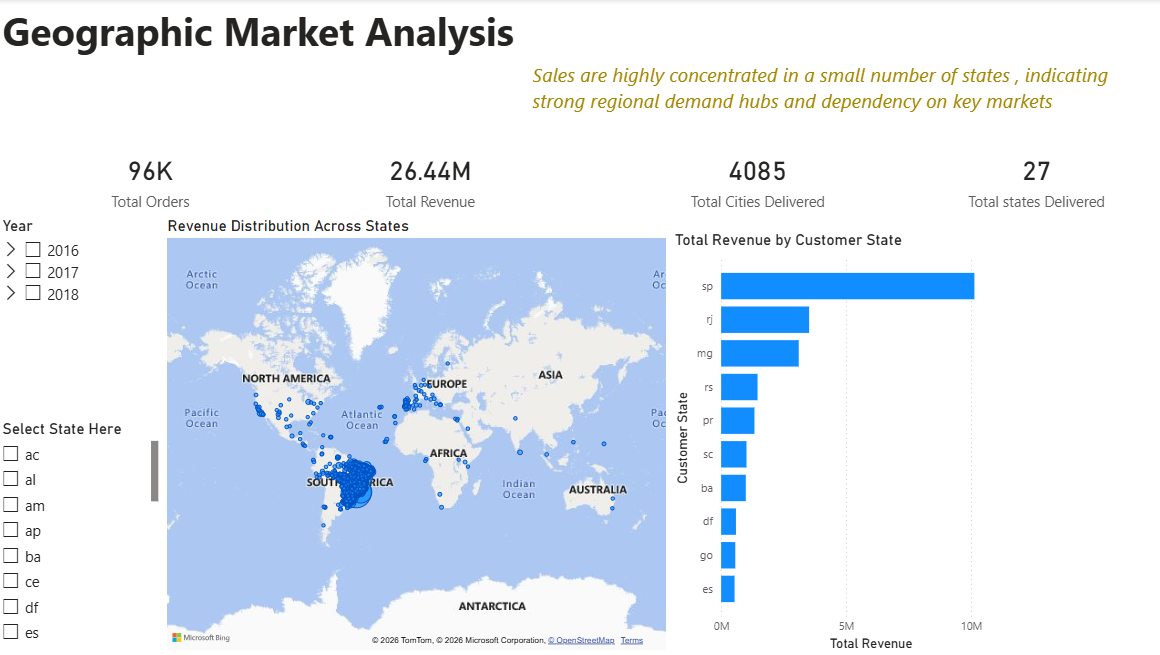

What the dashboard file says about the page in this screenshot:
{"tool":"powerbi","page":{"name":"GEOGRAPHIC MARKET ANALYSIS","canvas":[1280,720],"ordinal":3},"visuals":[{"type":"card","fields":{"Values":["Count(public bi_geographic_sales_overview (2).customer_state)"]},"box":[1000.3,156.4,279.9,82.3],"z":0},{"type":"card","fields":{"Values":["Count(public bi_geographic_sales_overview (2).customer_city)"]},"box":[679.2,156.4,310.1,82.3],"z":1000},{"type":"card","fields":{"Values":["Sum(public bi_geographic_sales_overview (2).total_orders)"]},"box":[0,156.4,334.8,82.3],"z":2000},{"type":"card","fields":{"Values":["Sum(public bi_geographic_sales_overview (2).total_revenue)"]},"box":[334.8,156.4,279.9,82.3],"z":3000},{"type":"map","title":"Revenue Distribution Across States","fields":{"Category":["public bi_geographic_sales_overview (2).customer_city"],"Size":["Sum(public bi_geographic_sales_overview (2).total_revenue)"]},"box":[181.1,238.8,557.1,481.6],"z":4000},{"type":"barChart","fields":{"Category":["public bi_geographic_sales_overview (2).customer_state"],"Y":["Sum(public bi_geographic_sales_overview (2).total_revenue)"]},"box":[738.3,253.9,402.1,466.6],"z":4001},{"type":"listSlicer","fields":{"Values":["public bi_geographic_sales_overview (2).order_month.Variation.Date Hierarchy.Year","public bi_geographic_sales_overview (2).order_month.Variation.Date Hierarchy.Quarter","public bi_geographic_sales_overview (2).order_month.Variation.Date Hierarchy.Month","public bi_geographic_sales_overview (2).order_month.Variation.Date Hierarchy.Day"]},"box":[0,238.8,167.4,222.3],"z":4002},{"type":"listSlicer","fields":{"Values":["public bi_geographic_sales_overview (2).customer_state"]},"box":[0,461.1,181.1,259.3],"z":4003},{"type":"textbox","box":[0,0,581.8,78.2],"z":4004},{"type":"textbox","box":[581.8,63.1,682,86.4],"z":4005}]}

Visuals, with their boxes in screenshot pixels (x1, y1, x2, y2), scaled from the page's 1280x720 canvas onto the 1160x655 screenshot:
card - Count(public bi_geographic_sales_overview (2).customer_state): select_region(907, 142, 1159, 217)
card - Count(public bi_geographic_sales_overview (2).customer_city): select_region(616, 142, 897, 217)
card - Sum(public bi_geographic_sales_overview (2).total_orders): select_region(0, 142, 303, 217)
card - Sum(public bi_geographic_sales_overview (2).total_revenue): select_region(303, 142, 557, 217)
"Revenue Distribution Across States" map: select_region(164, 217, 669, 654)
barChart - public bi_geographic_sales_overview (2).customer_state x Sum(public bi_geographic_sales_overview (2).total_revenue): select_region(669, 231, 1033, 654)
listSlicer - public bi_geographic_sales_overview (2).order_month.Variation.Date Hierarchy.Year x public bi_geographic_sales_overview (2).order_month.Variation.Date Hierarchy.Quarter: select_region(0, 217, 152, 419)
listSlicer - public bi_geographic_sales_overview (2).customer_state: select_region(0, 419, 164, 654)
textbox: select_region(0, 0, 527, 71)
textbox: select_region(527, 57, 1145, 136)
